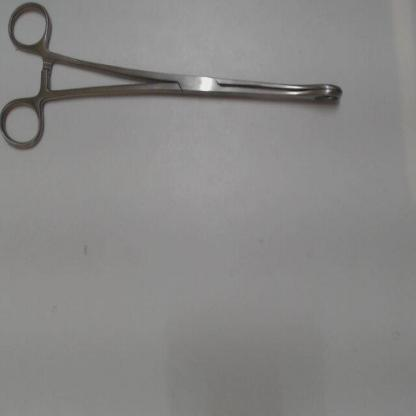Sponge Forceps: (0, 1, 350, 156)
